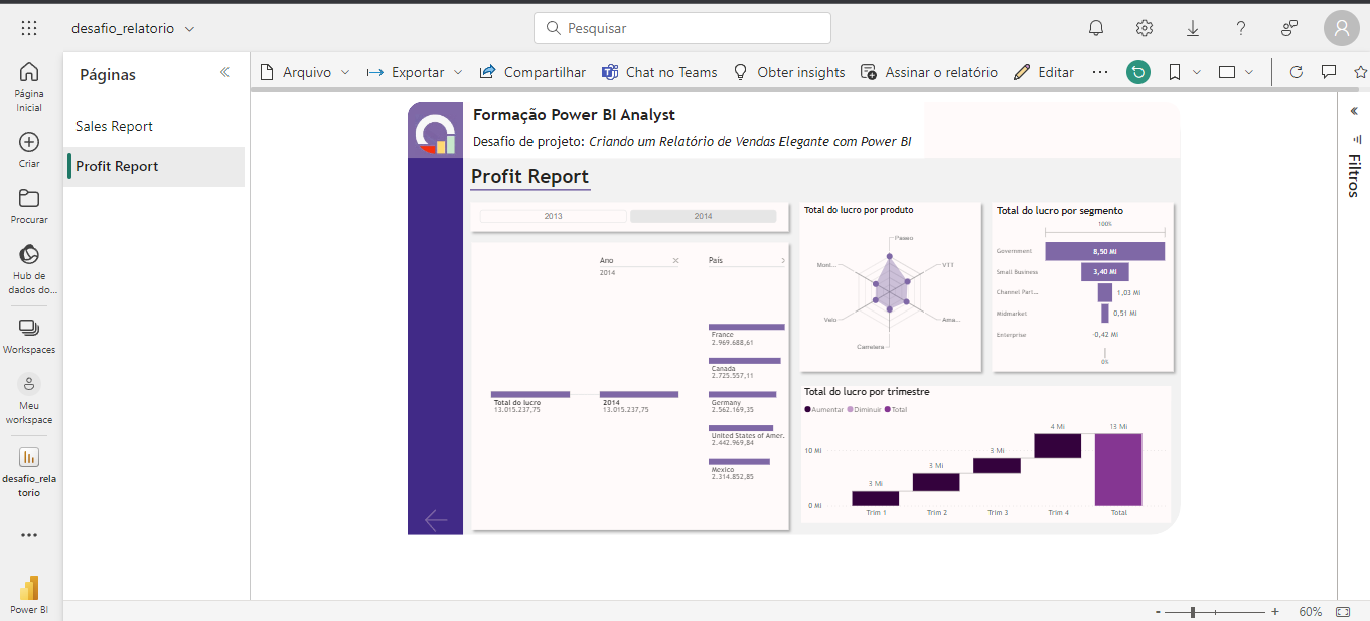

This screenshot's page, from the dashboard's own definition file:
{"tool":"powerbi","page":{"name":"Profit Report","canvas":[1280,720],"ordinal":1},"visuals":[{"type":"shape","box":[0,0,1280,719.7],"z":0},{"type":"shape","box":[103.7,135.4,200.4,22.9],"z":0,"group":"g1"},{"type":"shape","box":[0,0,92.3,719.7],"z":1000},{"type":"textbox","box":[99.9,99.9,216,57.6],"z":1000,"group":"g1"},{"type":"actionButton","title":"Botão - map","box":[297,0,74.5,26.6],"z":2000},{"type":"actionButton","title":"Botão - map","box":[307,10,74.5,26.6],"z":3000},{"type":"shape","box":[0,0,92.3,93.9],"z":4000},{"type":"actionButton","box":[558.1,169,70,46.1],"z":5000},{"type":"image","title":"logo","box":[0,15.1,92.3,78.8],"z":6000},{"type":"actionButton","box":[563.2,170.7,70,46.1],"z":7000},{"type":"shape","box":[92.3,0,1187.7,93.9],"z":8000},{"type":"textbox","box":[104,0,751.6,93.9],"z":9000},{"type":"shape","box":[96.5,224.6,542.9,495.4],"z":10000},{"type":"shape","box":[639.4,158.4,318.2,298.1],"z":11000},{"type":"group","id":"g1","title":"title","box":[99.9,99.9,216,58.3],"z":12000},{"type":"shape","box":[95,158.4,544.3,66.2],"z":13000},{"type":"shape","box":[957.6,158.4,318.2,298.1],"z":14000},{"type":"ChicletSlicer1448559807354","fields":{"Category":["financials.Date.Variation.Hierarquia de datas.Ano"]},"box":[112.3,171.4,506.9,43.2],"z":15000},{"type":"decompositionTreeVisual","fields":{"Analyze":["Sum(financials.Profit)"],"ExplainBy":["financials.Date.Variation.Hierarquia de datas.Ano","financials.Country"]},"box":[108,239,521.3,470.9],"z":16000},{"type":"RadarChart1446119667547","title":"Total do lucro por produto","fields":{"Y":["Sum(financials.Profit)"],"Category":["financials.Product"]},"box":[652.3,171.4,292.3,272.2],"z":17000},{"type":"waterfallChart","title":"Total do lucro por trimestre","fields":{"Category":["financials.Date.Variation.Hierarquia de datas.Trimestre"],"Y":["Sum(financials.Profit)"]},"box":[652.3,472.3,612,227.5],"z":18000},{"type":"funnel","title":"Total do lucro por segmento","fields":{"Category":["financials.Segment"],"Y":["Sum(financials.Profit)"]},"box":[970.6,171.4,293.8,272.2],"z":19000},{"type":"actionButton","box":[0,672,95,49],"z":19001}]}

Visuals, with their boxes on the page's 1280x720 design canvas (x1, y1, x2, y2). These are canvas units, not pixel positions in the 1370x621 screenshot, which may show the page scaled, cropped or inside an application window:
shape: [0, 0, 1280, 720]
shape: [104, 135, 304, 158]
shape: [0, 0, 92, 720]
textbox: [100, 100, 316, 158]
"Botão - map" actionButton: [297, 0, 372, 27]
"Botão - map" actionButton: [307, 10, 382, 37]
shape: [0, 0, 92, 94]
actionButton: [558, 169, 628, 215]
"logo" image: [0, 15, 92, 94]
actionButton: [563, 171, 633, 217]
shape: [92, 0, 1280, 94]
textbox: [104, 0, 856, 94]
shape: [96, 225, 639, 720]
shape: [639, 158, 958, 456]
"title" group: [100, 100, 316, 158]
shape: [95, 158, 639, 225]
shape: [958, 158, 1276, 456]
ChicletSlicer1448559807354 - financials.Date.Variation.Hierarquia de datas.Ano: [112, 171, 619, 215]
decompositionTreeVisual - Sum(financials.Profit) x financials.Date.Variation.Hierarquia de datas.Ano: [108, 239, 629, 710]
"Total do lucro por produto" RadarChart1446119667547: [652, 171, 945, 444]
"Total do lucro por trimestre" waterfallChart: [652, 472, 1264, 700]
"Total do lucro por segmento" funnel: [971, 171, 1264, 444]
actionButton: [0, 672, 95, 721]
